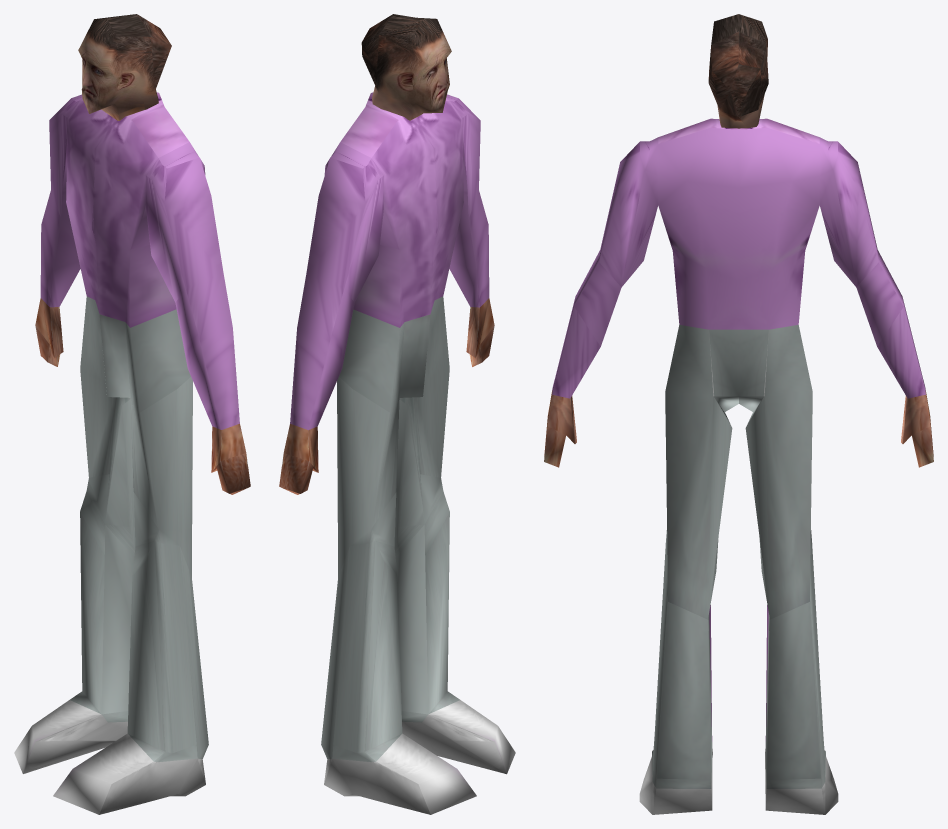
Rendered from man8.fbx.
3 views of the same model, side by side, from view 1: azimuth 30°, elevation 25°; view 2: azimuth 150°, elevation 25°; view 3: azimuth 270°, elevation 25° (orthographic). The views are drawn at different scales.
Visible parts, largest first — view 1: man8; view 2: man8; view 3: man8.
Boxes of the visible parts, x1=… form: man8: x1=14, y1=14, x2=250, y2=814; man8: x1=279, y1=14, x2=515, y2=814; man8: x1=544, y1=14, x2=933, y2=814.
Bounding box in the file's own units: 34.73 × 186 × 84.77.
2 materials, 2 textured.
